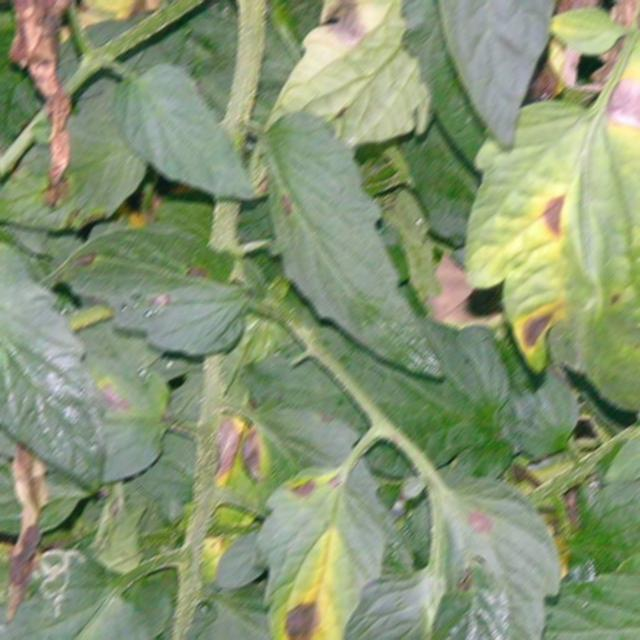Tomato Early blight leaf: (239, 118, 448, 390), (461, 115, 640, 393), (0, 234, 117, 502), (267, 434, 392, 640)
